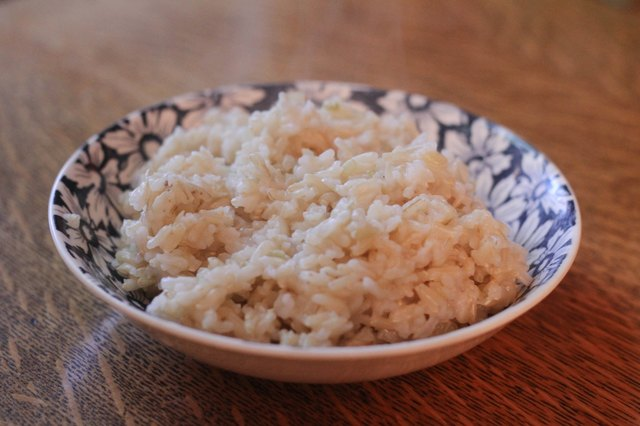plain rice: (140, 117, 476, 310)
